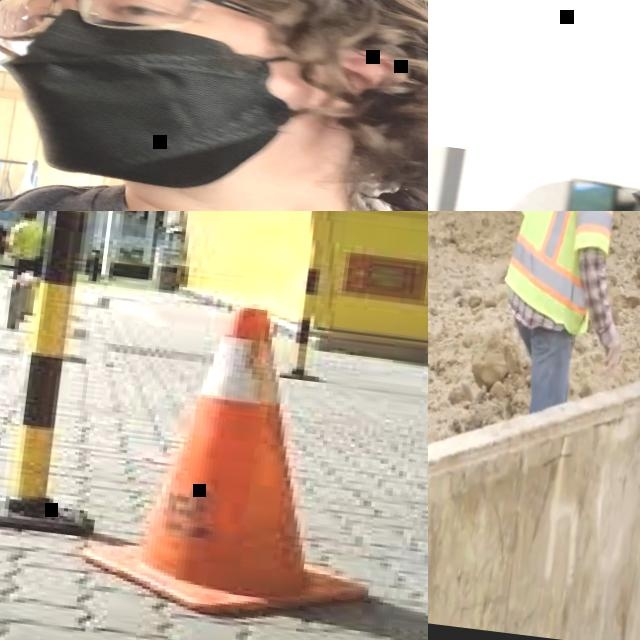Mask: (0, 0, 339, 205)
NO-Hardhat: (482, 171, 640, 211), (19, 211, 34, 219)
NO-Safety Vest: (0, 165, 428, 211), (12, 223, 45, 260)
Person: (0, 0, 428, 211), (489, 211, 640, 417), (428, 138, 640, 211), (479, 165, 640, 211), (1, 211, 47, 284)
Safety Cone: (88, 290, 405, 635)
Safety Vest: (500, 211, 634, 339)
